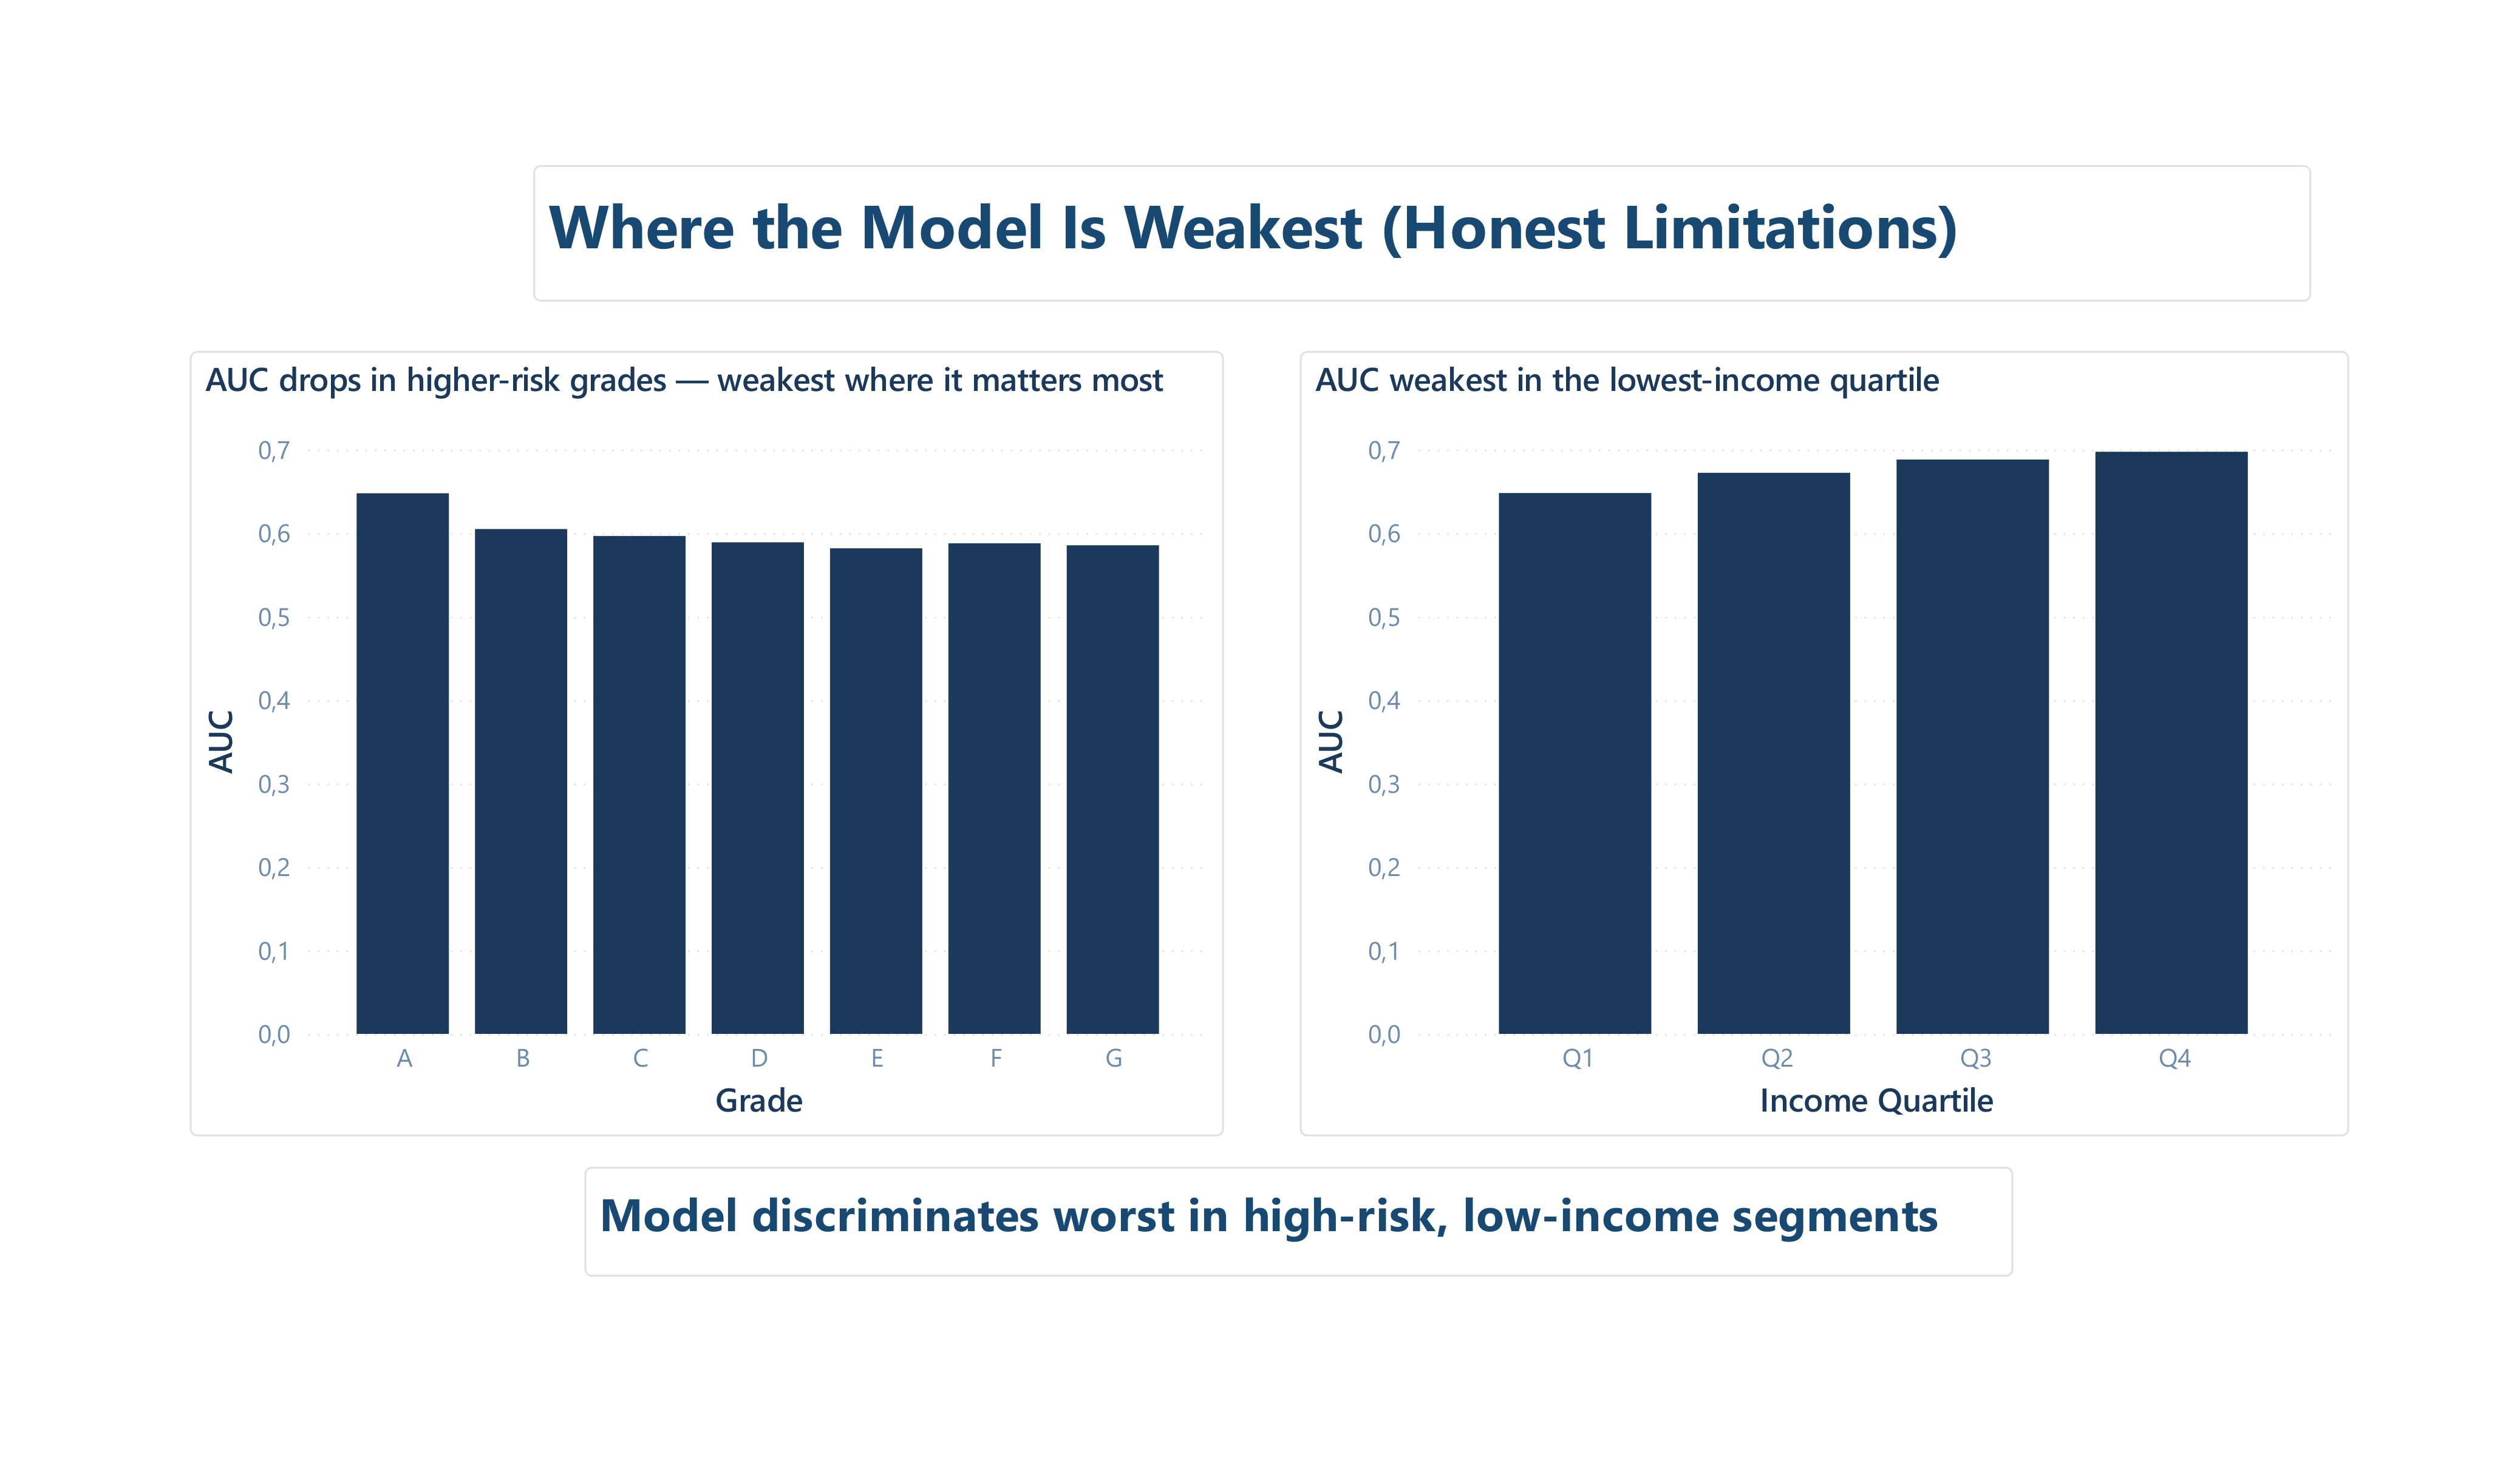

The page's visual inventory and layout, read from the dashboard file:
{"tool":"powerbi","page":{"name":"Subgroup Limitations","canvas":[1280,720],"ordinal":2},"visuals":[{"type":"clusteredColumnChart","title":"AUC drops in higher-risk grades — weakest where it matters most","fields":{"Category":["facts_subgroups.segment"],"Y":["Sum(facts_subgroups.auc_roc)"]},"box":[76.3,161.4,544.4,414.1],"z":0},{"type":"clusteredColumnChart","title":"AUC weakest in the lowest-income quartile","fields":{"Category":["facts_subgroups.segment"],"Y":["Sum(facts_subgroups.auc_roc)"]},"box":[660.6,161.4,553.3,414.1],"z":1000},{"type":"textbox","box":[257.1,63,937.2,71.8],"z":2000},{"type":"textbox","box":[283.7,591.4,753.7,57.6],"z":3000}]}

Visuals, with their boxes on the page's 1280x720 design canvas (x1, y1, x2, y2). These are canvas units, not pixel positions in the 2520x1457 screenshot, which may show the page scaled, cropped or inside an application window:
"AUC drops in higher-risk grades — weakest where it matters most" clusteredColumnChart: [left=76, top=161, right=621, bottom=576]
"AUC weakest in the lowest-income quartile" clusteredColumnChart: [left=661, top=161, right=1214, bottom=576]
textbox: [left=257, top=63, right=1194, bottom=135]
textbox: [left=284, top=591, right=1037, bottom=649]
